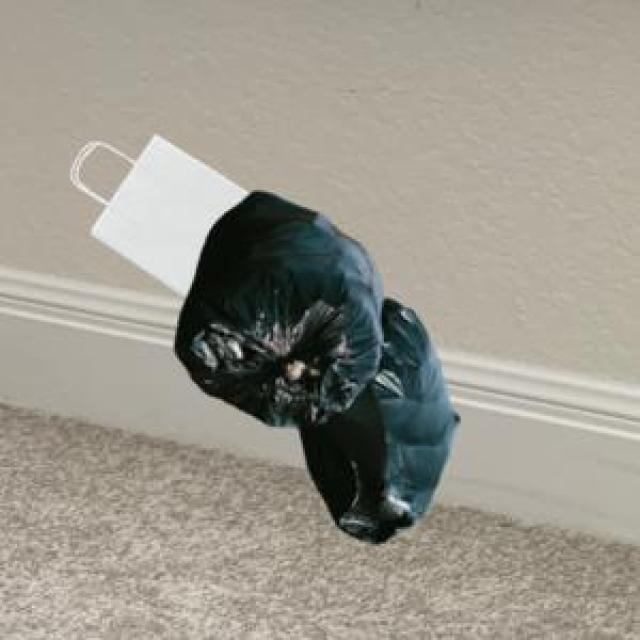miscellaneous trash: (171, 188, 454, 540)
paper: (70, 130, 245, 294)
